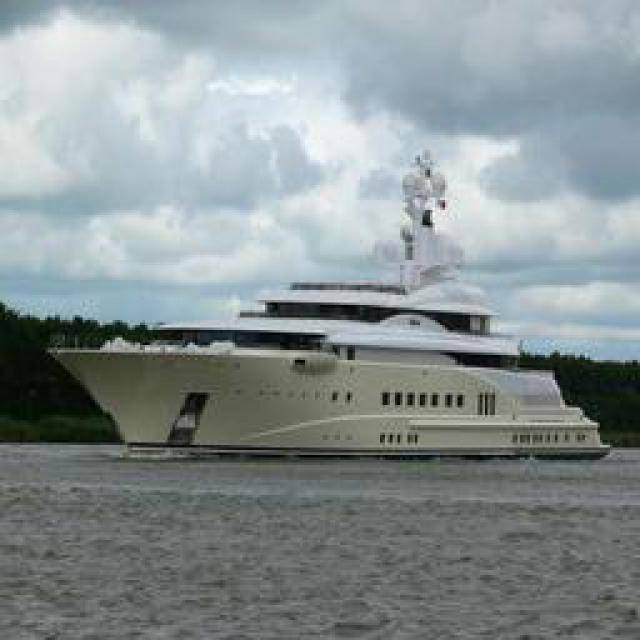Ship: (64, 247, 607, 460)
